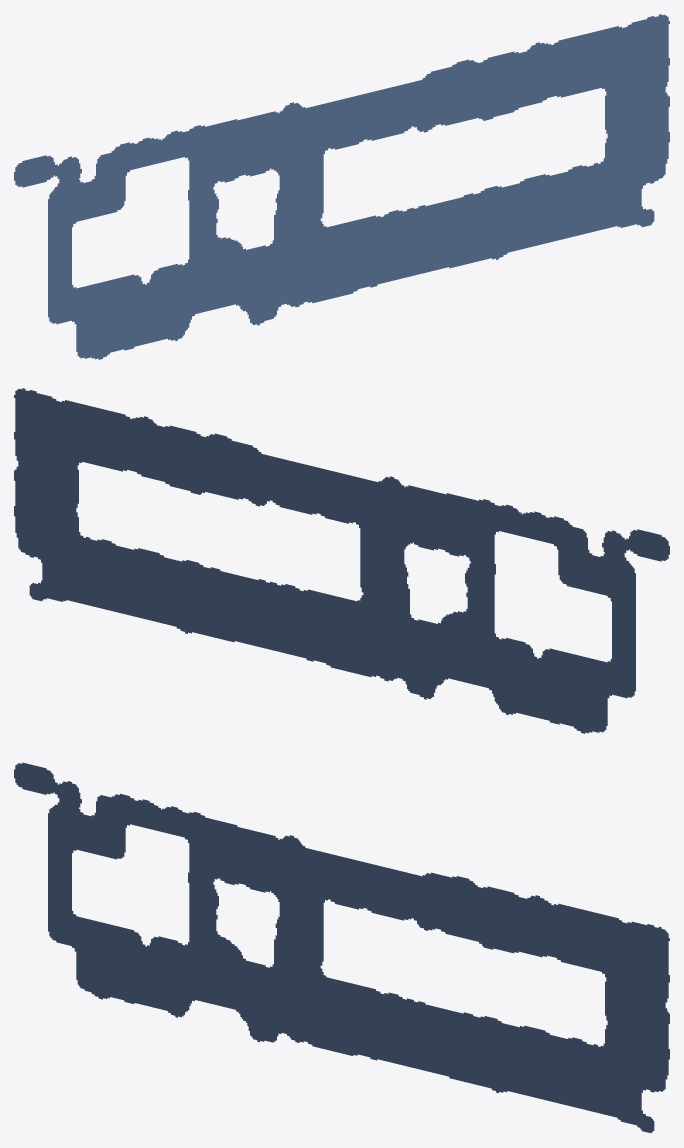
File: flat_floor.obj
The picture shows the model from 3 angles, top to bottom: view 1: azimuth 30°, elevation 25°; view 2: azimuth 150°, elevation 25°; view 3: azimuth 330°, elevation 25°; orthographic projection.
Visible parts, largest first — view 1: flat_floor; view 2: flat_floor; view 3: flat_floor.
Boxes of the visible parts, left/top/right/bottom form: flat_floor: left=14, top=14, right=669, bottom=359; flat_floor: left=14, top=388, right=669, bottom=733; flat_floor: left=14, top=762, right=669, bottom=1133.
Size of the model in its own units: 23.2 by 7.5 by 0.
